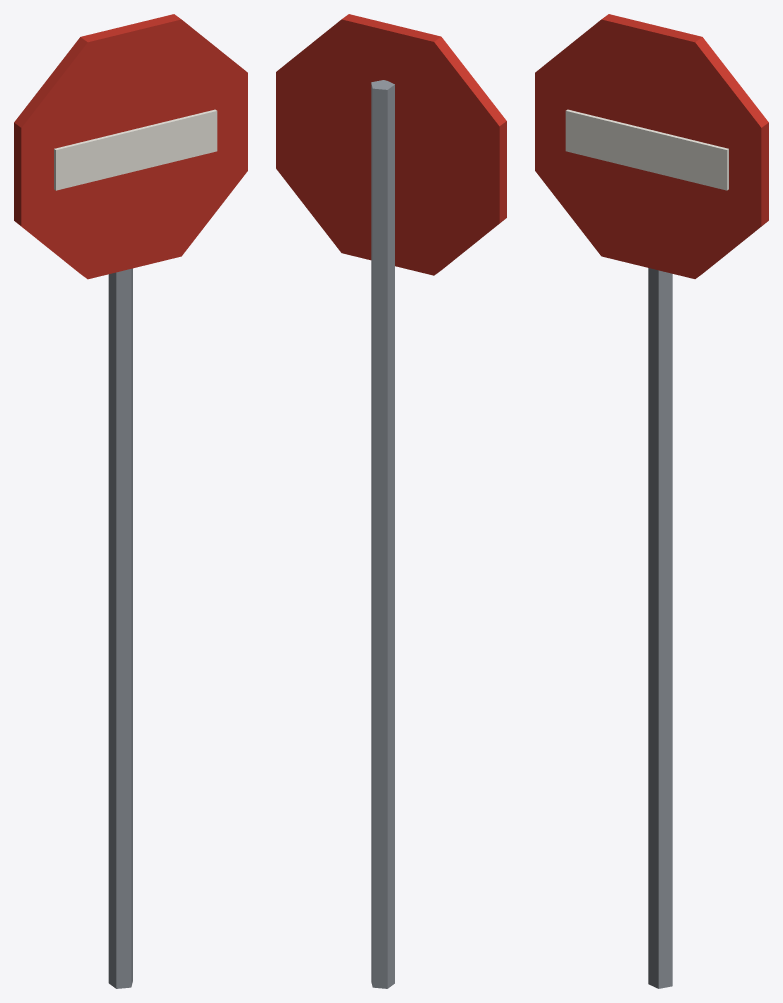
The model's file is sign_stop.glb.
The picture shows the model from 3 angles, left to right: view 1: azimuth 30°, elevation 25°; view 2: azimuth 150°, elevation 25°; view 3: azimuth 330°, elevation 25°; orthographic projection.
Parts seen in each view (by area): view 1: sign_stop; view 2: sign_stop; view 3: sign_stop.
Boxes of the visible parts, bbox=[...] form: sign_stop: bbox=[14, 14, 247, 988]; sign_stop: bbox=[276, 14, 506, 988]; sign_stop: bbox=[535, 14, 768, 988].
Size of the model in its own units: 0.7021 by 2.85 by 0.1133.
